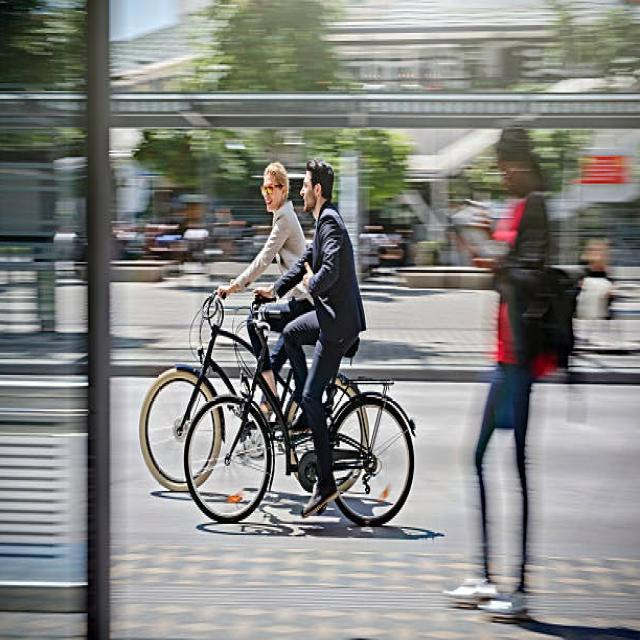bicycle: (185, 159, 414, 524)
